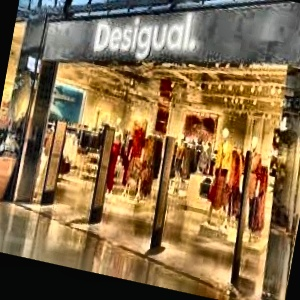desigual: (111, 15, 290, 85)
